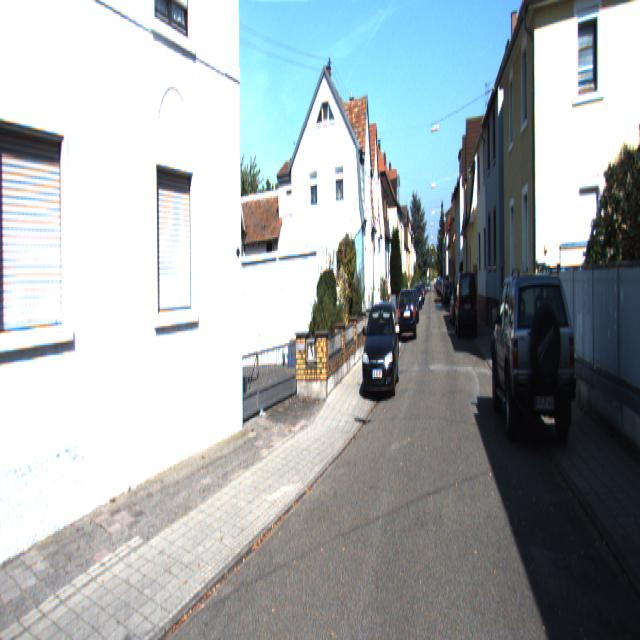Car: (490, 265, 578, 460), (362, 296, 399, 395), (456, 273, 479, 343), (399, 288, 417, 343)
